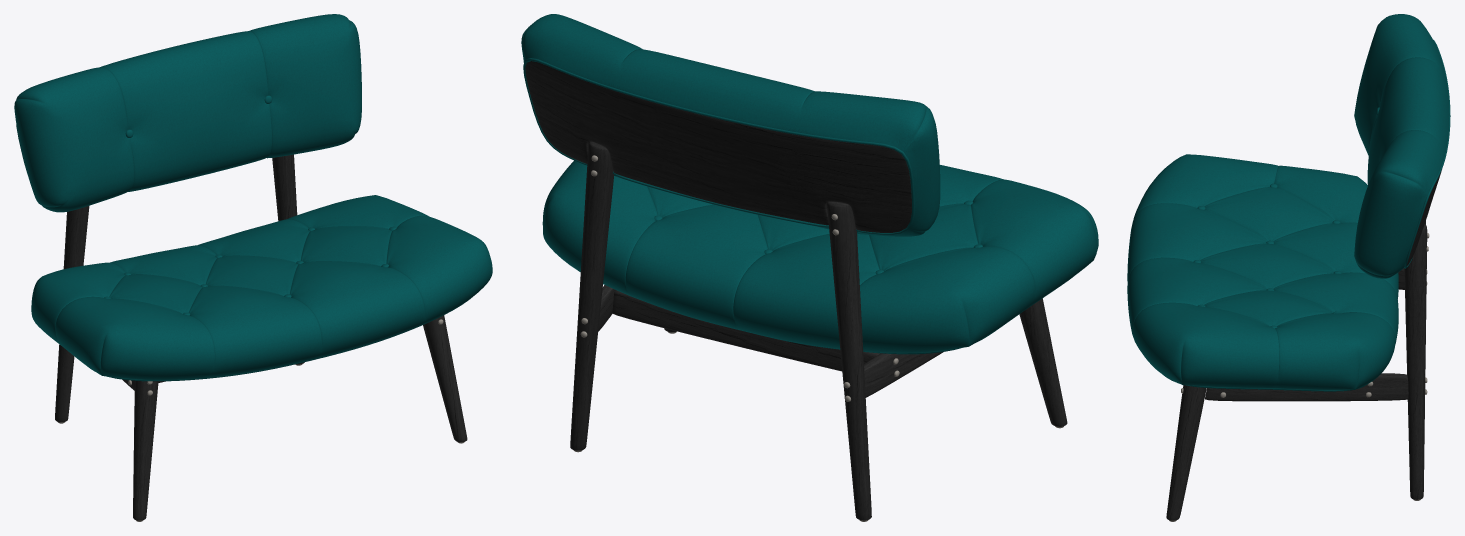
Rendered from butaca.glb.
The picture shows the model from 3 angles, left to right: view 1: azimuth 30°, elevation 25°; view 2: azimuth 150°, elevation 25°; view 3: azimuth 270°, elevation 25°; orthographic projection. The views are drawn at different scales.
Visible parts, largest first — view 1: SheenChair_fabric, SheenChair_wood; view 2: SheenChair_fabric, SheenChair_wood; view 3: SheenChair_fabric, SheenChair_wood.
Boxes of the visible parts, left/top/right/bottom form: SheenChair_fabric: left=14, top=14, right=492, bottom=381; SheenChair_wood: left=55, top=154, right=467, bottom=520; SheenChair_fabric: left=521, top=14, right=1098, bottom=354; SheenChair_wood: left=525, top=61, right=1067, bottom=520; SheenChair_fabric: left=1127, top=14, right=1450, bottom=391; SheenChair_wood: left=1166, top=170, right=1441, bottom=520.
Bounding box in the file's own units: 0.8266 × 0.6862 × 0.5703.
Materials: 3 (2 with a texture image).
